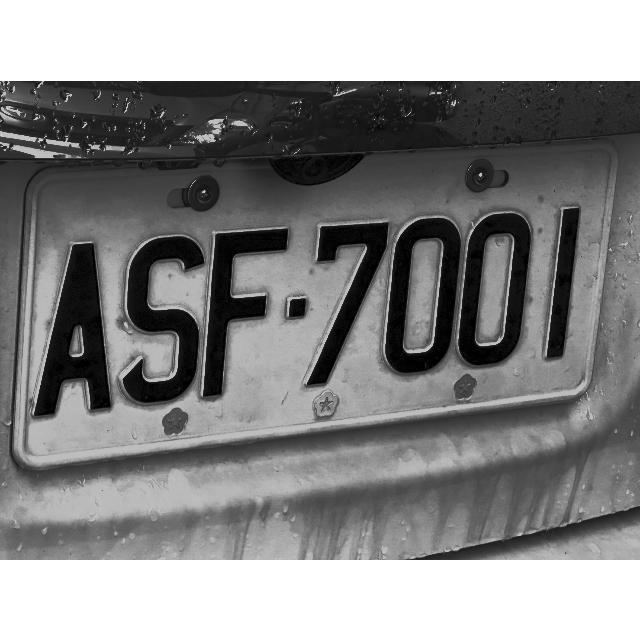-: (282, 292, 312, 322)
0: (461, 210, 533, 372), (390, 214, 460, 376)
1: (544, 201, 584, 367)
7: (306, 220, 388, 386)
A: (34, 237, 114, 419)
F: (203, 228, 289, 398)
S: (122, 230, 202, 404)
